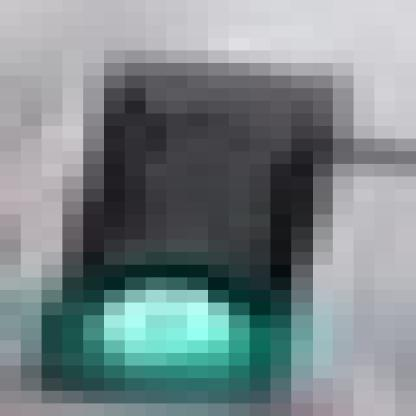Green Light: (61, 56, 324, 403)
